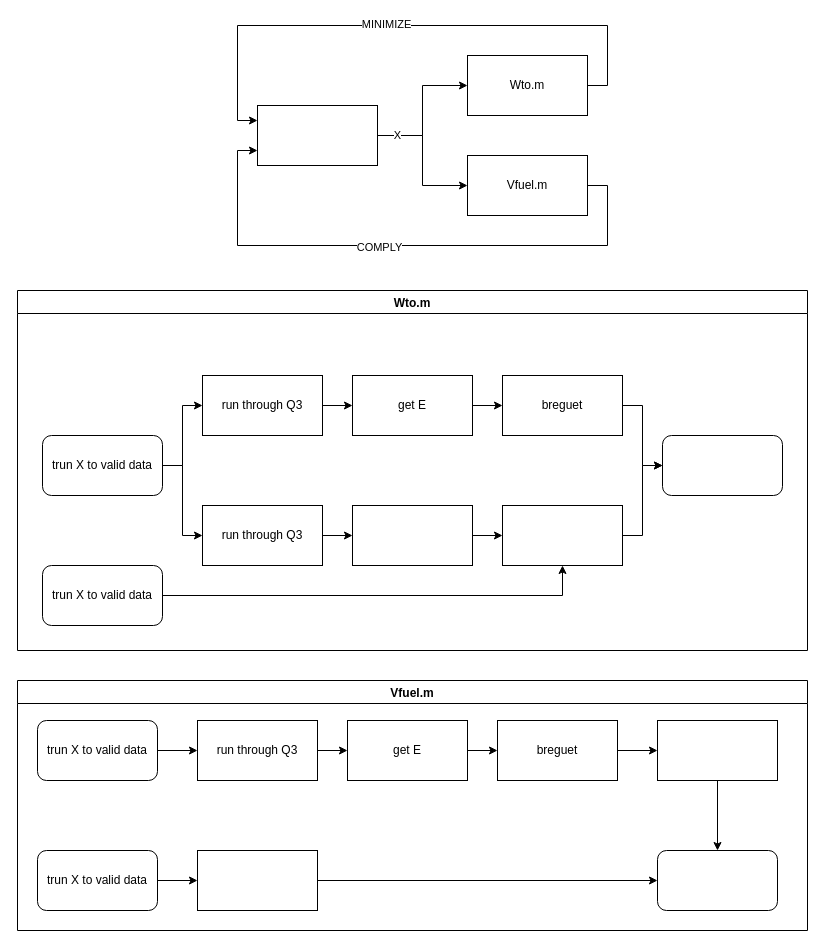
Some shapes in this 825 by 948 pixel diagram are drawn without their labels. The centre of each missing label's shape, as x and y in pixels:
"fuel weight" belongs at point (717, 750).
"get loads" belongs at point (412, 535).
"get tank volume" belongs at point (257, 880).
"main.m" belongs at point (317, 135).
"Return difference" belongs at point (717, 880).
"run through MET" belongs at point (562, 535).
"total weight" belongs at point (722, 465).
